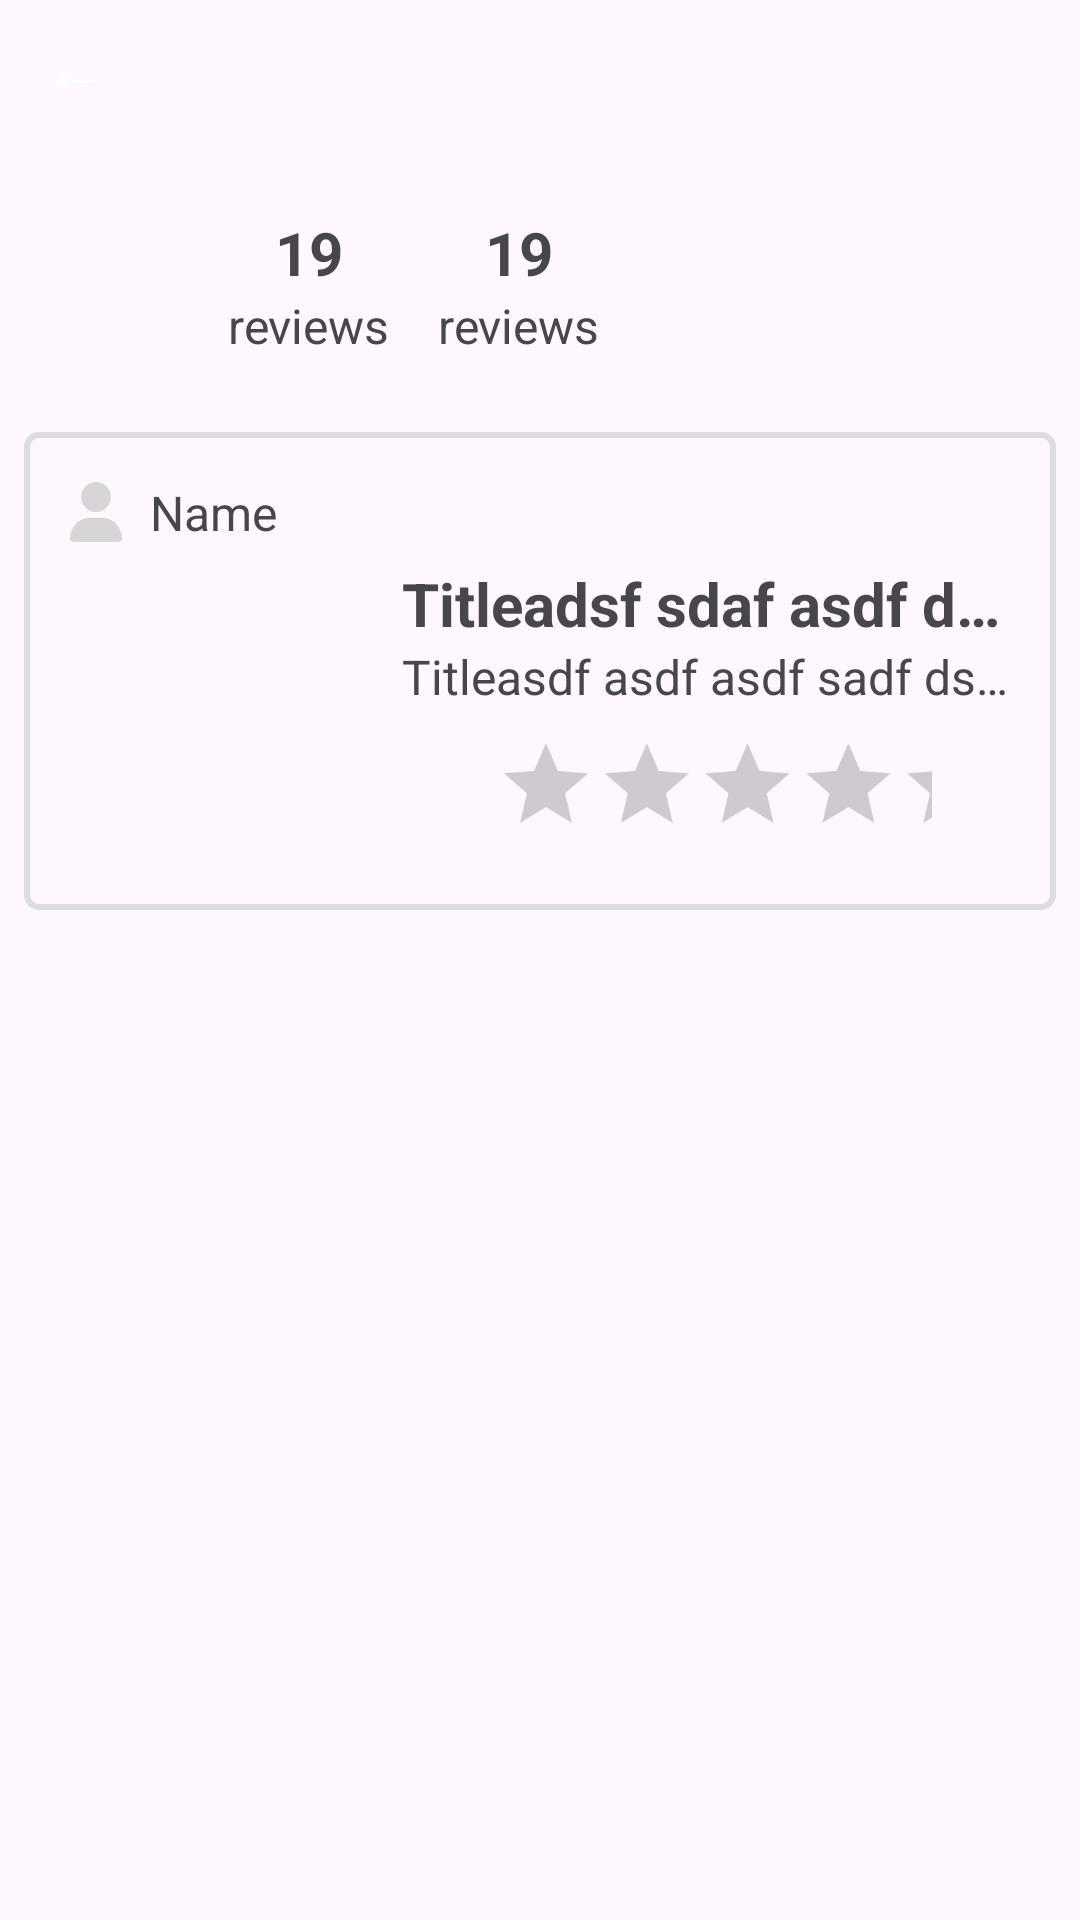

Named icons in this screenshot (1080w x 1920h) and their bounding boxes, (x1, y1, x2, y2):
user: (70, 482, 122, 542)
